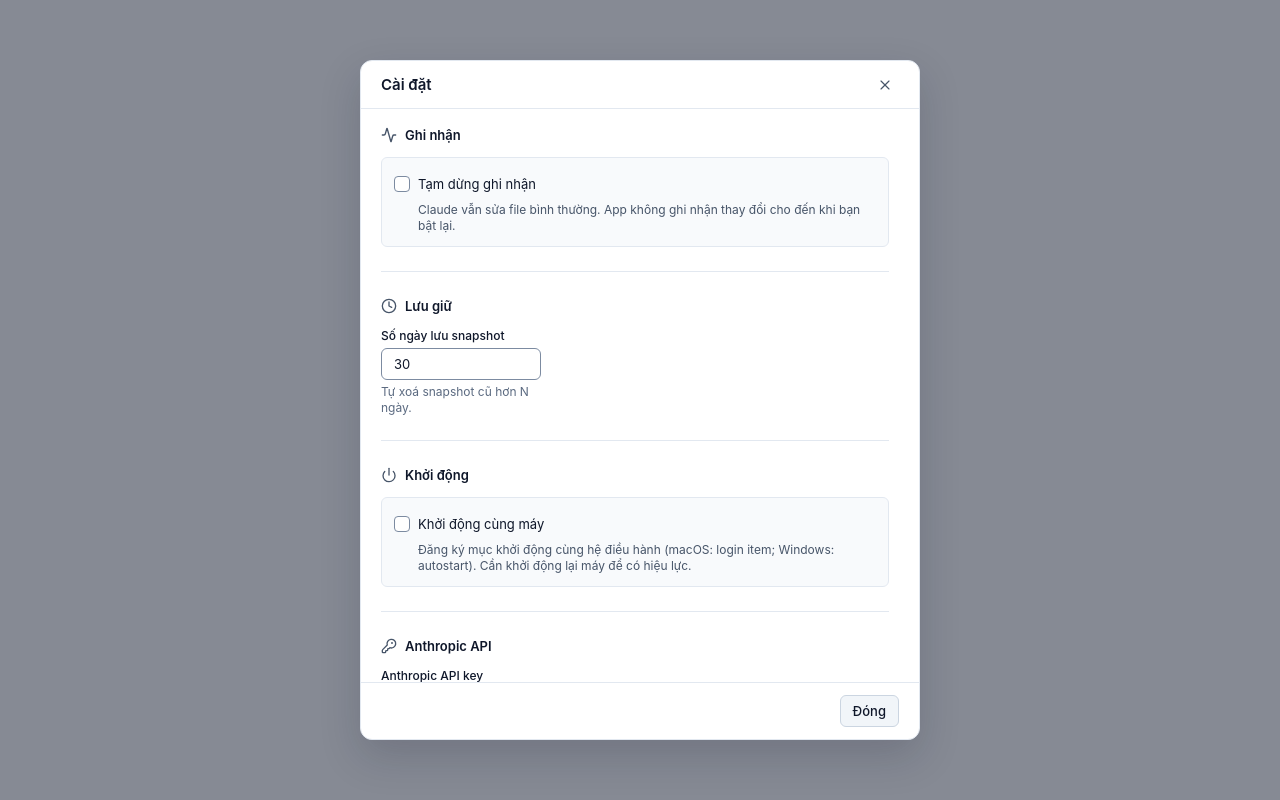
Scenario: <SettingsModal /> › a save that fails while the autostart switch is saving still shows its error
Click the checkbox labelled "Tạm dừng ghi nhận". click: click(402, 184)
box: [394, 176, 410, 192]
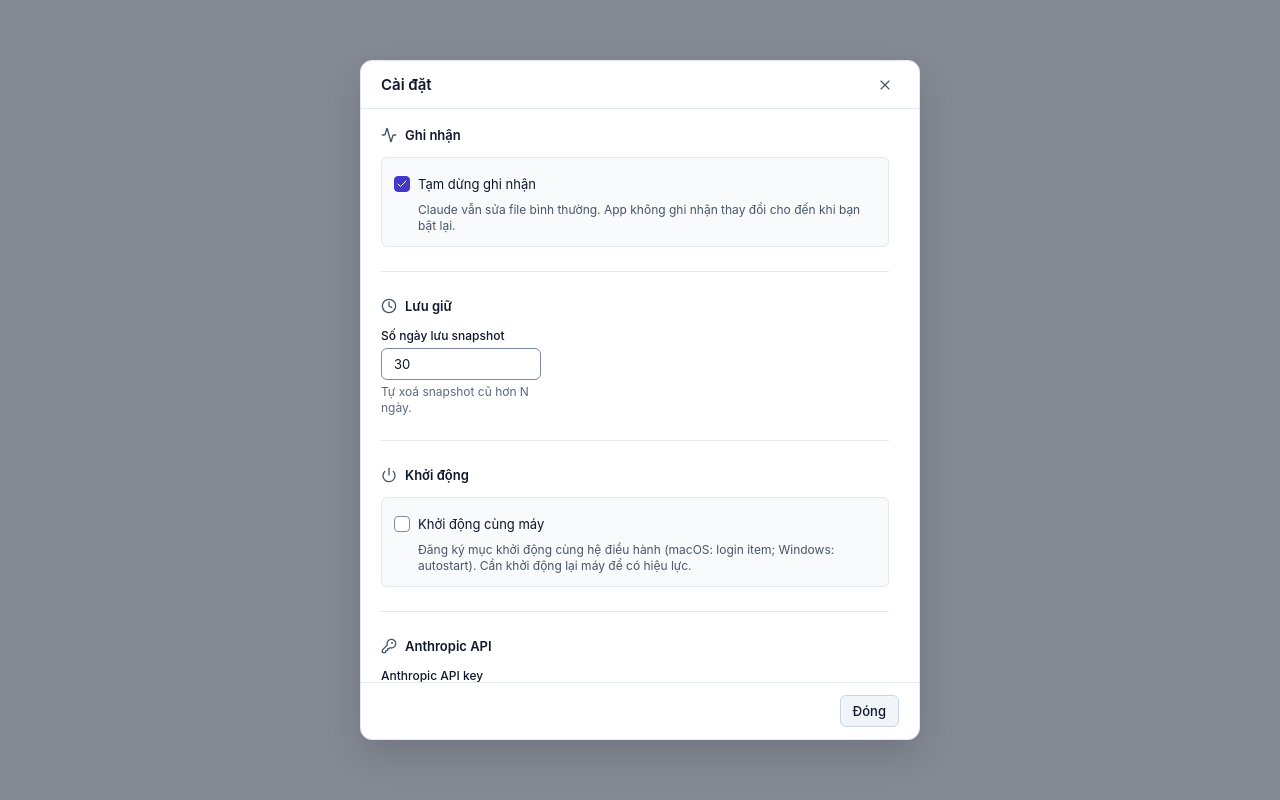
Click the checkbox labelled "Khởi động cùng máy". click: click(402, 524)
box: [394, 516, 410, 532]
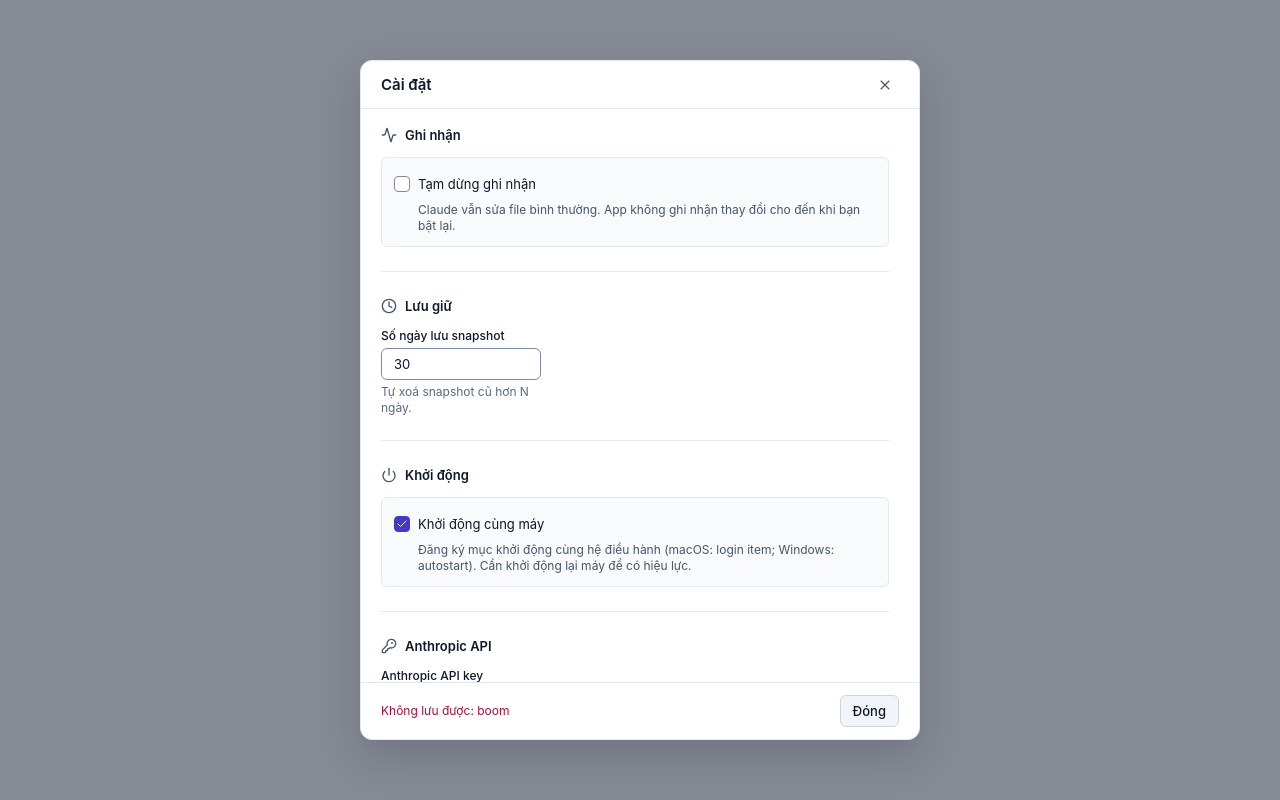
expect the text "Không lưu được: boom" is shown: met, box [381, 703, 510, 718]
